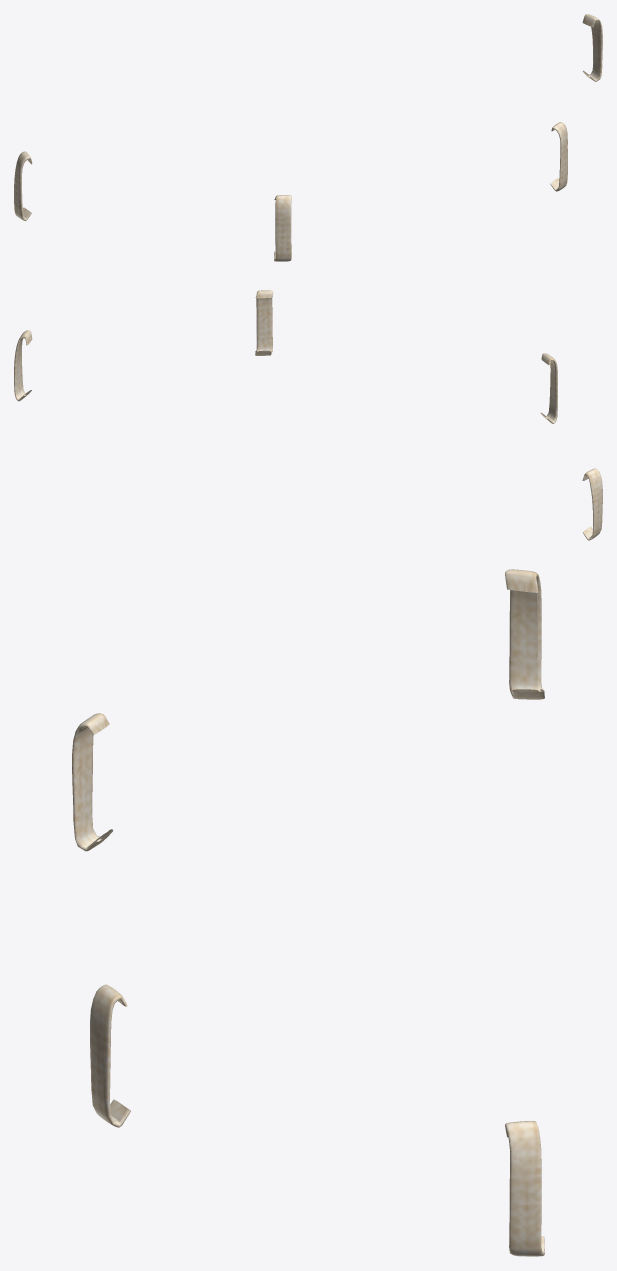
Rendered from 4cm standard_button belt_huk.glb.
3 renders of one model, top to bottom at view 1: azimuth 30°, elevation 25°; view 2: azimuth 150°, elevation 25°; view 3: azimuth 270°, elevation 25°, orthographic. The views are drawn at different scales.
Parts seen in each view (by area): view 1: belt_huk_4cm; view 2: belt_huk_4cm; view 3: belt_huk_4cm.
Part boxes in pixels (left/top/right/bottom): belt_huk_4cm: left=14, top=14, right=602, bottom=261; belt_huk_4cm: left=14, top=290, right=602, bottom=540; belt_huk_4cm: left=72, top=569, right=544, bottom=1256.
Bounding box in the file's own units: 0.0478 × 0.00514 × 0.0168.
Materials: 1 (1 with a texture image).
